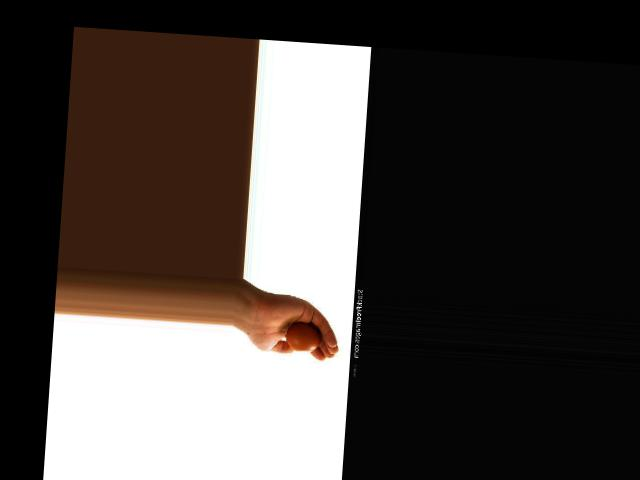egg: (285, 322, 323, 352)
